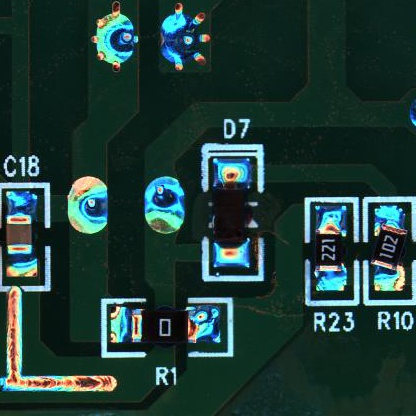spot: (158, 2, 212, 73), (92, 1, 139, 72), (67, 174, 110, 237), (144, 176, 187, 235)
